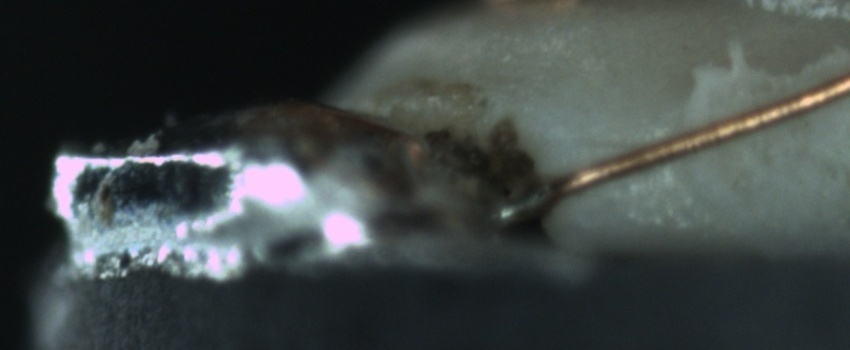DL: (552, 117, 670, 170)
TS: (480, 179, 554, 229)
